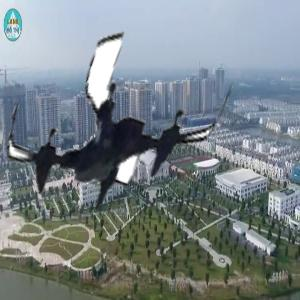drone: (8, 10, 227, 229)
